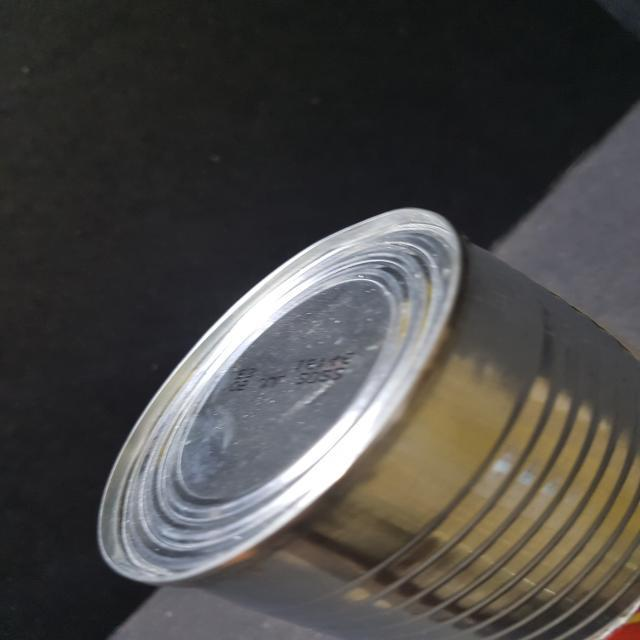metal: (92, 201, 640, 640)
